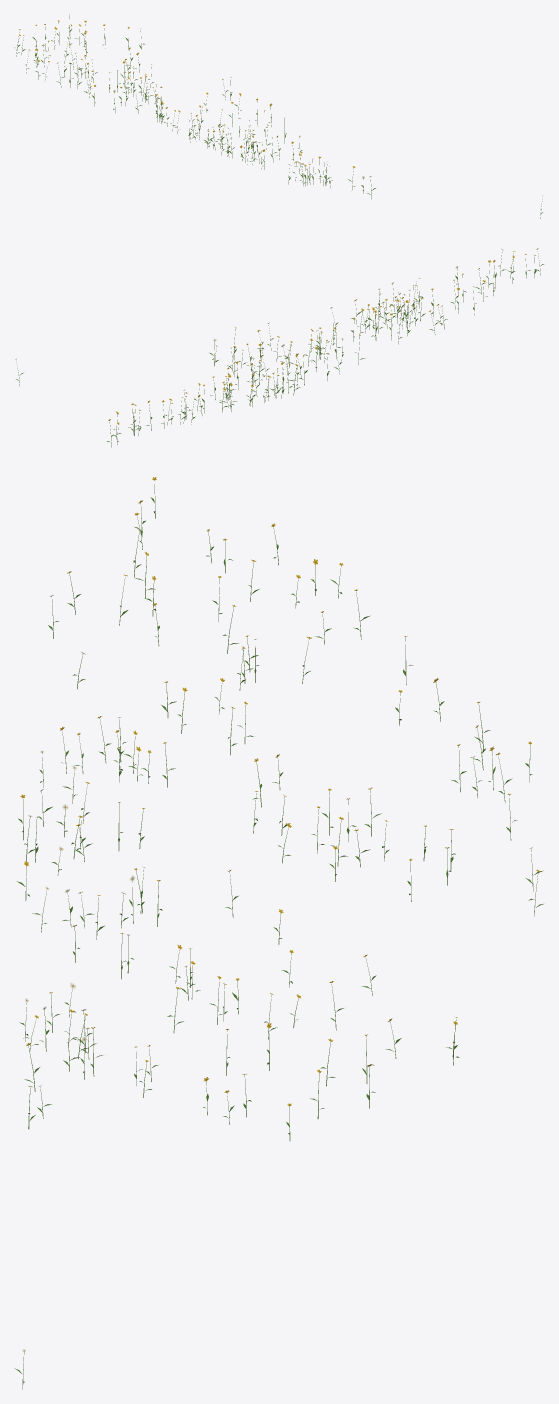
The model's file is GroundCover_19_19.glb.
3 renders of one model, top to bottom at view 1: azimuth 30°, elevation 25°; view 2: azimuth 150°, elevation 25°; view 3: azimuth 270°, elevation 25°, orthographic. The views are drawn at different scales.
Parts seen in each view (by area): view 1: GroundCover_19_19; view 2: GroundCover_19_19; view 3: GroundCover_19_19.
Part boxes in pixels (<box>): GroundCover_19_19: <box>14,14,543,218</box>; GroundCover_19_19: <box>15,248,543,447</box>; GroundCover_19_19: <box>14,477,543,1389</box>.
Size of the model in its own units: 15.83 by 8.09 by 8.08.
Materials: 1 (1 with a texture image).
